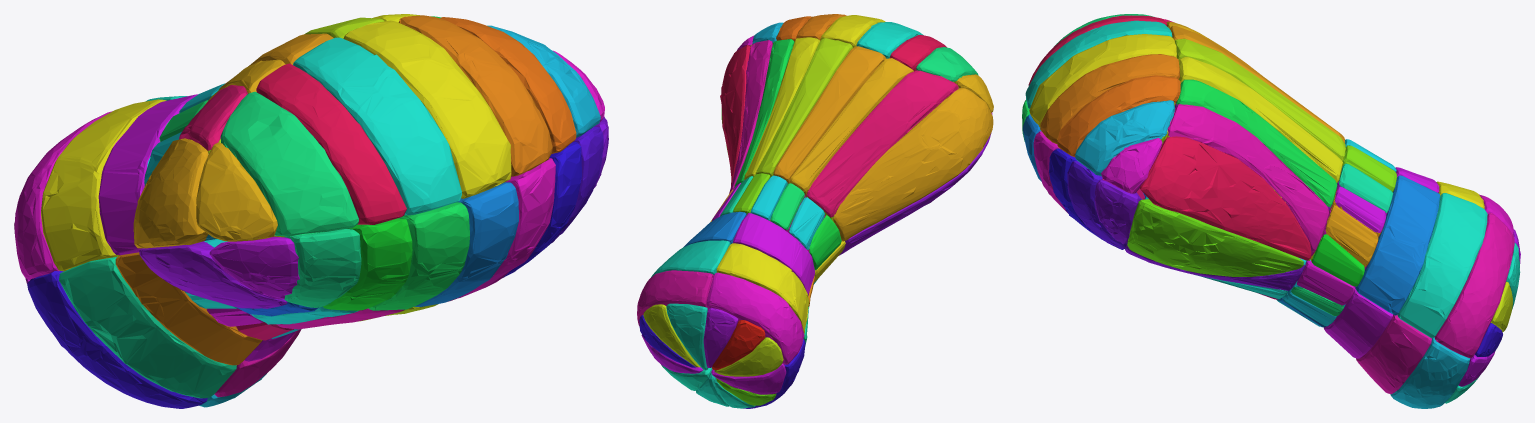
File: uterus-female-upenn.glb
3 views of the same model, side by side, from view 1: azimuth 30°, elevation 25°; view 2: azimuth 150°, elevation 25°; view 3: azimuth 270°, elevation 25° (orthographic). The views are drawn at different scales.
Visible parts, largest first — view 1: world; view 2: world; view 3: world.
Boxes of the visible parts, x1=… form: world: x1=14, y1=14, x2=608, y2=408; world: x1=637, y1=14, x2=993, y2=408; world: x1=1022, y1=14, x2=1520, y2=408.
Bounding box in the file's own units: 0.0418 × 0.0462 × 0.058.
